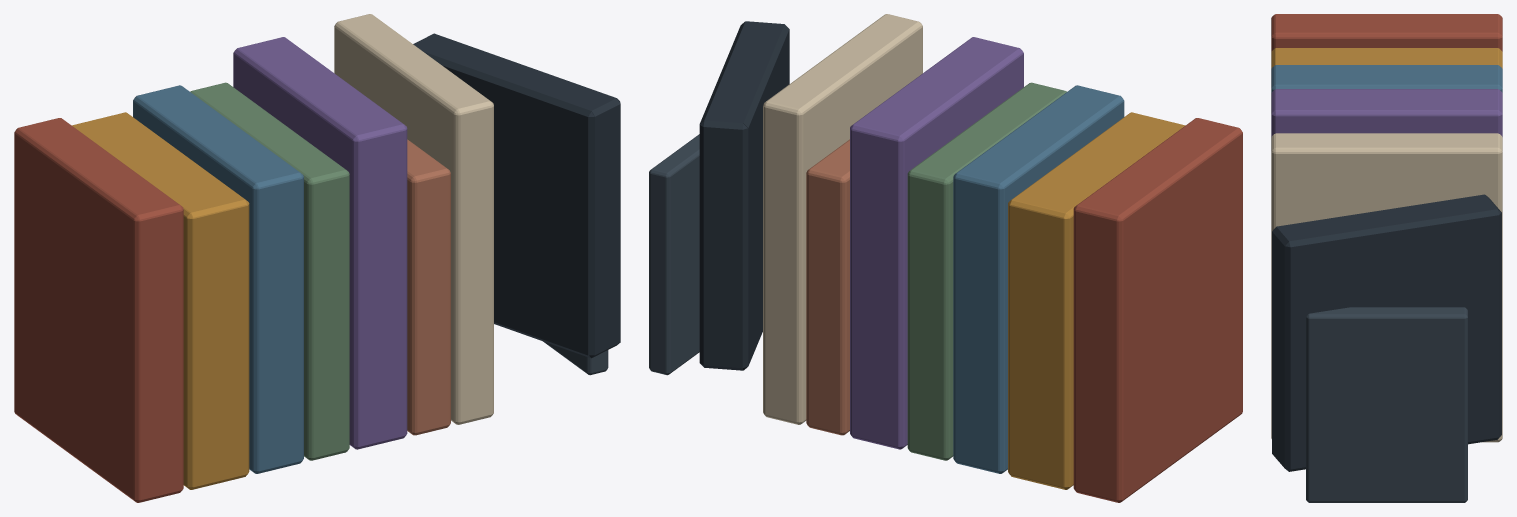
Rendered from books_row.glb.
The picture shows the model from 3 angles, left to right: view 1: azimuth 30°, elevation 25°; view 2: azimuth 150°, elevation 25°; view 3: azimuth 270°, elevation 25°; orthographic projection. The views are drawn at different scales.
Parts seen in each view (by area): view 1: book, leaning-book, book.004, book.001, book.006, book.002, book.003, book.005, bookend; view 2: book, book.004, book.001, book.006, book.002, leaning-book, book.003, book.005, bookend; view 3: leaning-book, bookend, book.006, book.004, book, book.002, book.001.
Boxes of the visible parts, x1,y1,x2,y2 form: book: (14, 118, 183, 502); leaning-book: (413, 33, 620, 358); book.004: (233, 37, 407, 449); book.001: (72, 112, 249, 489); book.006: (334, 14, 493, 424); book.002: (133, 85, 303, 473); book.003: (190, 82, 349, 460); book.005: (407, 139, 450, 435); bookend: (543, 341, 608, 375); book: (1073, 118, 1242, 502); book.004: (850, 37, 1023, 449); book.001: (1008, 112, 1185, 489); book.006: (763, 14, 922, 424); book.002: (953, 85, 1124, 473); leaning-book: (699, 21, 789, 370); book.003: (907, 82, 1066, 460); book.005: (806, 139, 849, 435); bookend: (649, 134, 699, 375); leaning-book: (1272, 194, 1501, 471); bookend: (1306, 307, 1467, 502); book.006: (1271, 133, 1502, 442); book.004: (1271, 89, 1502, 136); book: (1271, 14, 1502, 51); book.002: (1271, 65, 1502, 92); book.001: (1271, 48, 1502, 68).
Size of the model in its own units: 0.4598 by 0.281 by 0.2.
